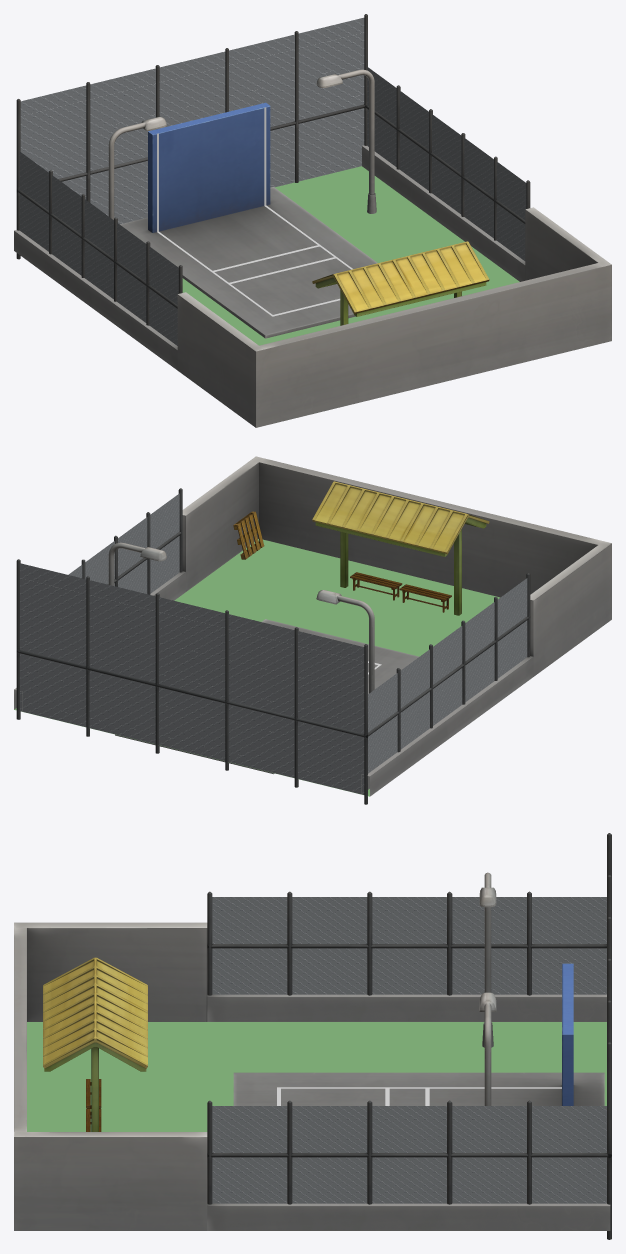
File: Garden_Lobby.fbx
3 renders of one model, top to bottom at view 1: azimuth 30°, elevation 25°; view 2: azimuth 150°, elevation 25°; view 3: azimuth 270°, elevation 25°, orthographic. The views are drawn at different scales.
Parts seen in each view (by area): view 1: Chainlink1, Sidewalls, Conc_Floor, WALL1, GrassPlane, Poles, BenchShade, LightPoles, Lines; view 2: Chainlink1, Sidewalls, GrassPlane, Poles, BenchShade, Conc_Floor, LightPoles, WoodPallet, Bench_, Bench_2; view 3: Chainlink1, Sidewalls, GrassPlane, Conc_Floor, Poles, BenchShade, LightPoles, WALL1, Lines.
Part boxes in pixels (x1=…): Chainlink1: x1=19, y1=17, x2=526, y2=345; Sidewalls: x1=14, y1=145, x2=611, y2=427; Conc_Floor: x1=120, y1=187, x2=377, y2=338; WALL1: x1=148, y1=102, x2=270, y2=232; GrassPlane: x1=182, y1=166, x2=519, y2=345; Poles: x1=16, y1=14, x2=530, y2=325; BenchShade: x1=312, y1=241, x2=489, y2=325; LightPoles: x1=108, y1=69, x2=376, y2=219; Lines: x1=157, y1=107, x2=352, y2=316; Chainlink1: x1=20, y1=493, x2=527, y2=794; Sidewalls: x1=14, y1=456, x2=611, y2=796; GrassPlane: x1=14, y1=539, x2=499, y2=796; Poles: x1=16, y1=488, x2=530, y2=804; BenchShade: x1=312, y1=481, x2=489, y2=615; Conc_Floor: x1=115, y1=619, x2=418, y2=774; LightPoles: x1=108, y1=542, x2=374, y2=693; WoodPallet: x1=233, y1=511, x2=264, y2=559; Bench_: x1=350, y1=572, x2=402, y2=600; Bench_2: x1=399, y1=584, x2=451, y2=612; Chainlink1: x1=212, y1=897, x2=606, y2=1203; Sidewalls: x1=14, y1=922, x2=610, y2=1230; GrassPlane: x1=27, y1=1022, x2=606, y2=1131; Conc_Floor: x1=233, y1=1072, x2=604, y2=1105; Poles: x1=207, y1=833, x2=611, y2=1239; BenchShade: x1=43, y1=957, x2=147, y2=1131; LightPoles: x1=479, y1=872, x2=496, y2=1105; WALL1: x1=562, y1=963, x2=573, y2=1105; Lines: x1=277, y1=1087, x2=561, y2=1105.
Size of the model in its own units: 18.39 by 7.86 by 21.7.
